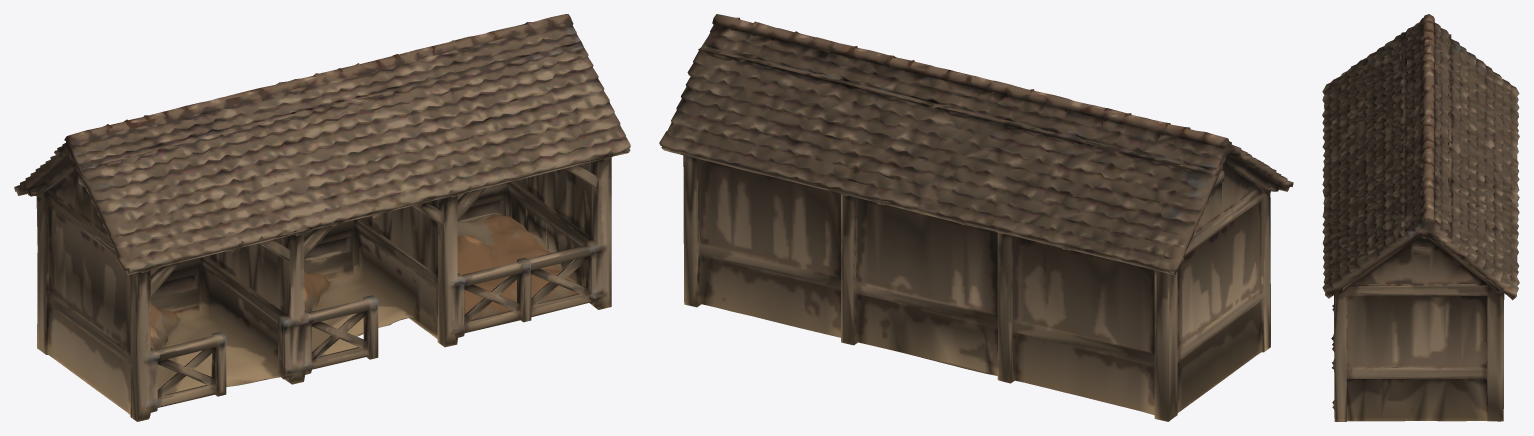
Rendered from Stable.fbx.
3 views of the same model, side by side, from view 1: azimuth 30°, elevation 25°; view 2: azimuth 150°, elevation 25°; view 3: azimuth 270°, elevation 25° (orthographic). The views are drawn at different scales.
Visible parts, largest first — view 1: Stable; view 2: Stable; view 3: Stable.
Boxes of the visible parts, x1,y1,x2,y2 form: Stable: (14, 14, 630, 421); Stable: (659, 14, 1293, 421); Stable: (1322, 14, 1519, 421).
Size of the model in its own units: 13.99 by 6.57 by 5.6.
1 material, 1 textured.
